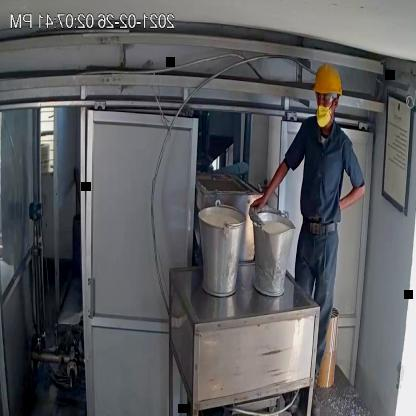helmet: (307, 61, 344, 106)
